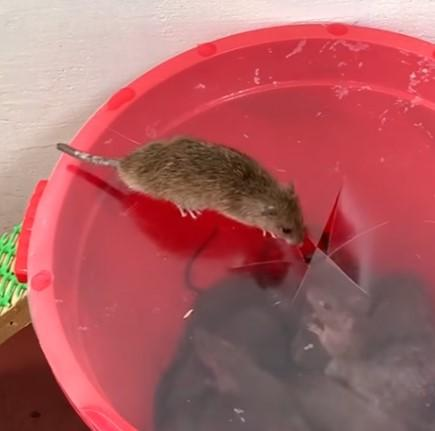rat: (56, 138, 305, 246)
